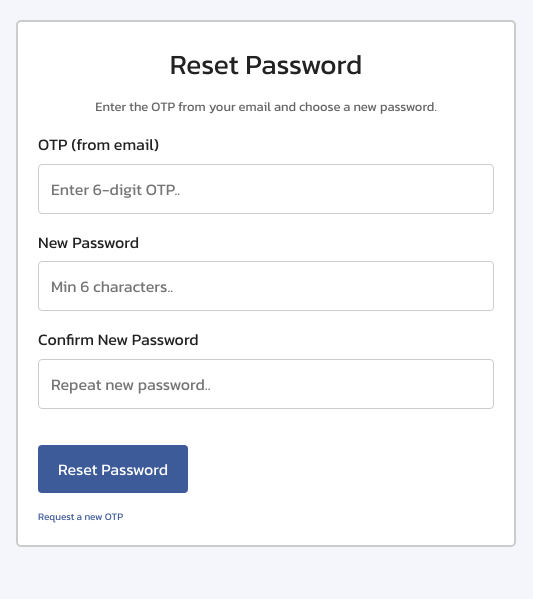
ResetPassword — validation › shows error when OTP is empty
Step 1. Click the button showing "Reset Password" → (113, 469), box [38,445,188,493]
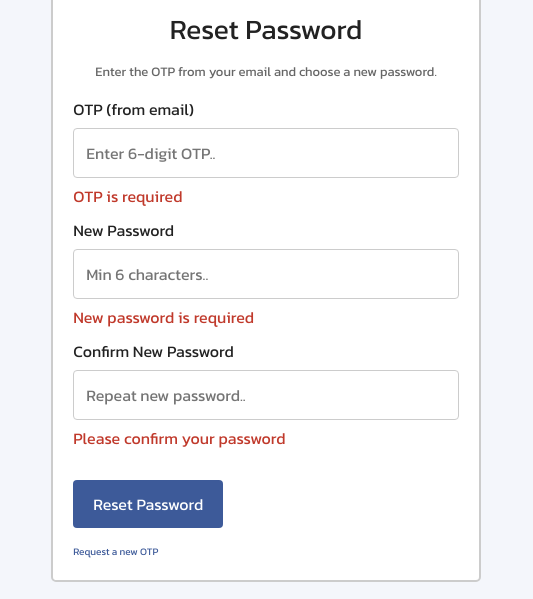
Expected: the text "OTP is required" is shown, [73,184,182,208]
